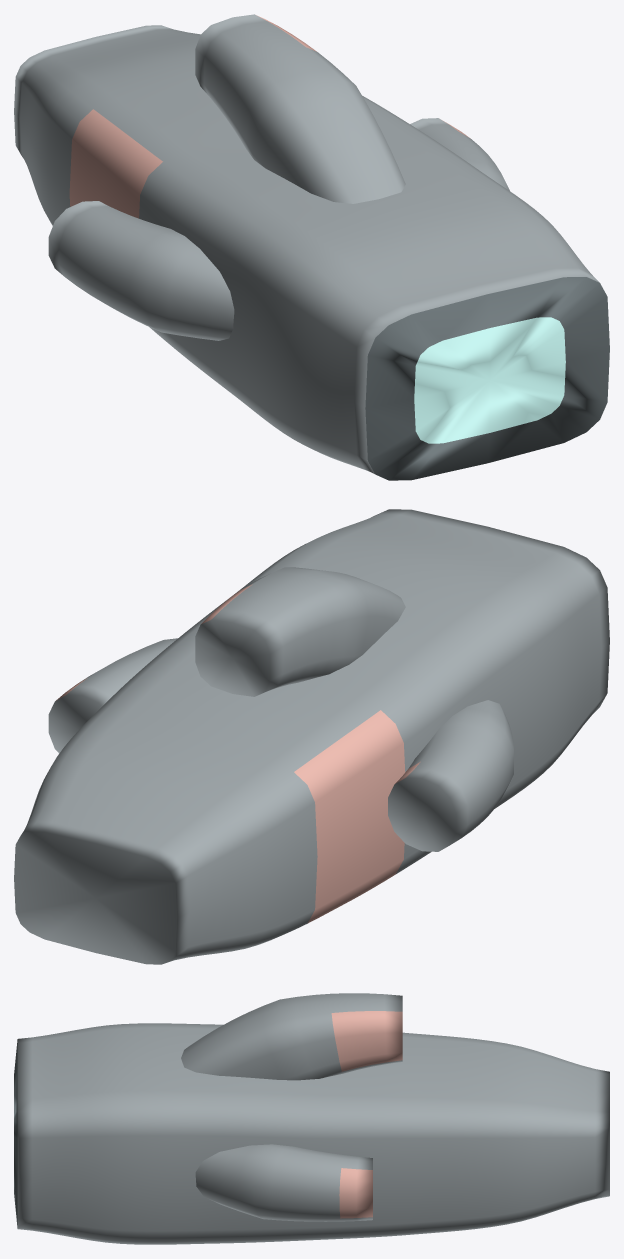
File: exponent_ca.glb
The picture shows the model from 3 angles, top to bottom: view 1: azimuth 30°, elevation 25°; view 2: azimuth 150°, elevation 25°; view 3: azimuth 270°, elevation 25°; orthographic projection. The views are drawn at different scales.
Parts seen in each view (by area): view 1: hull_mesh, limb_1_mesh, limb_0_mesh, limb_0_port_mesh; view 2: hull_mesh, limb_1_mesh, limb_0_mesh, limb_0_port_mesh; view 3: hull_mesh, limb_1_mesh, limb_0_port_mesh.
Boxes of the visible parts, x1,y1,x2,y2 form: hull_mesh: [14, 25, 609, 480]; limb_1_mesh: [195, 14, 405, 203]; limb_0_mesh: [48, 201, 234, 340]; limb_0_port_mesh: [410, 118, 509, 190]; hull_mesh: [14, 509, 609, 964]; limb_1_mesh: [195, 567, 405, 696]; limb_0_mesh: [388, 700, 513, 851]; limb_0_port_mesh: [48, 638, 177, 753]; hull_mesh: [14, 1023, 609, 1244]; limb_1_mesh: [181, 993, 402, 1080]; limb_0_port_mesh: [195, 1144, 372, 1221].
Size of the model in its own units: 90.29 by 58.66 by 151.
